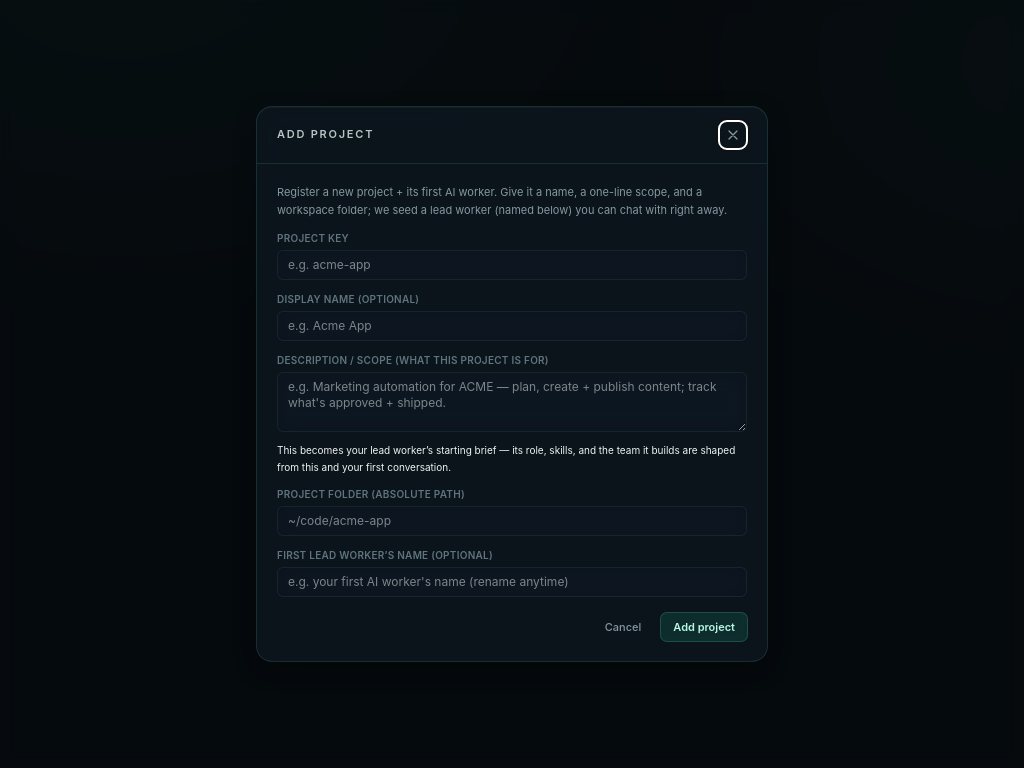
Scenario: AddProjectModal › requires a project key
Click the button "Add project" at (704, 627), box [661,613,747,641]
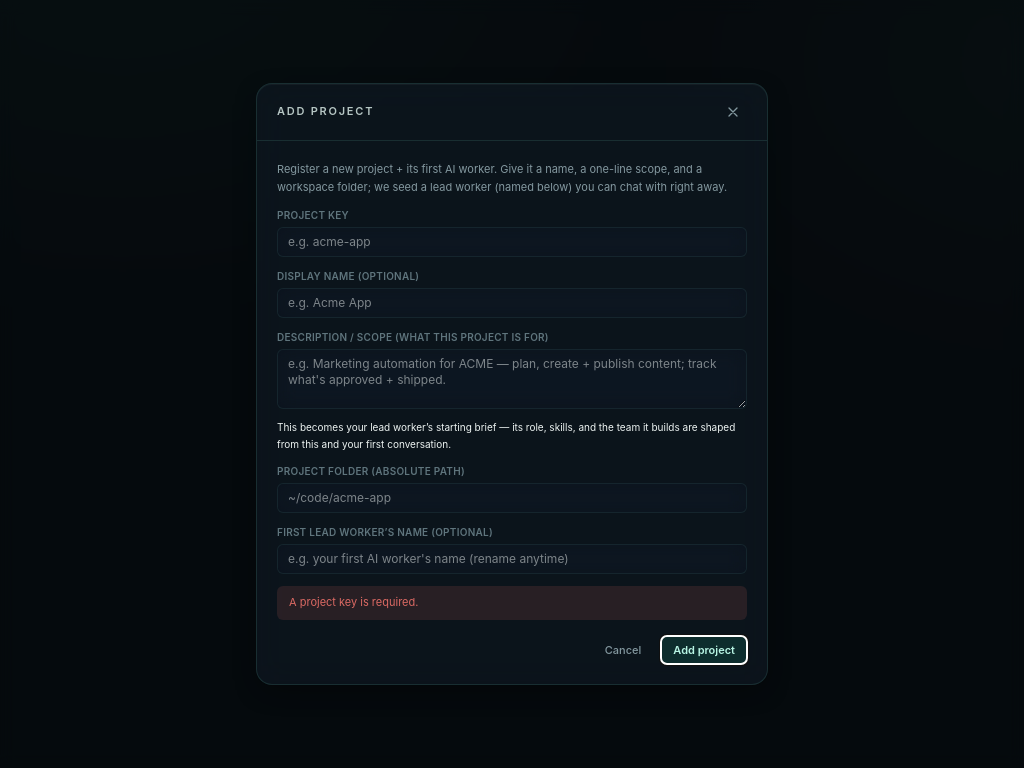
Expected: the text "A project key is required." is shown, [277,586,747,620]
